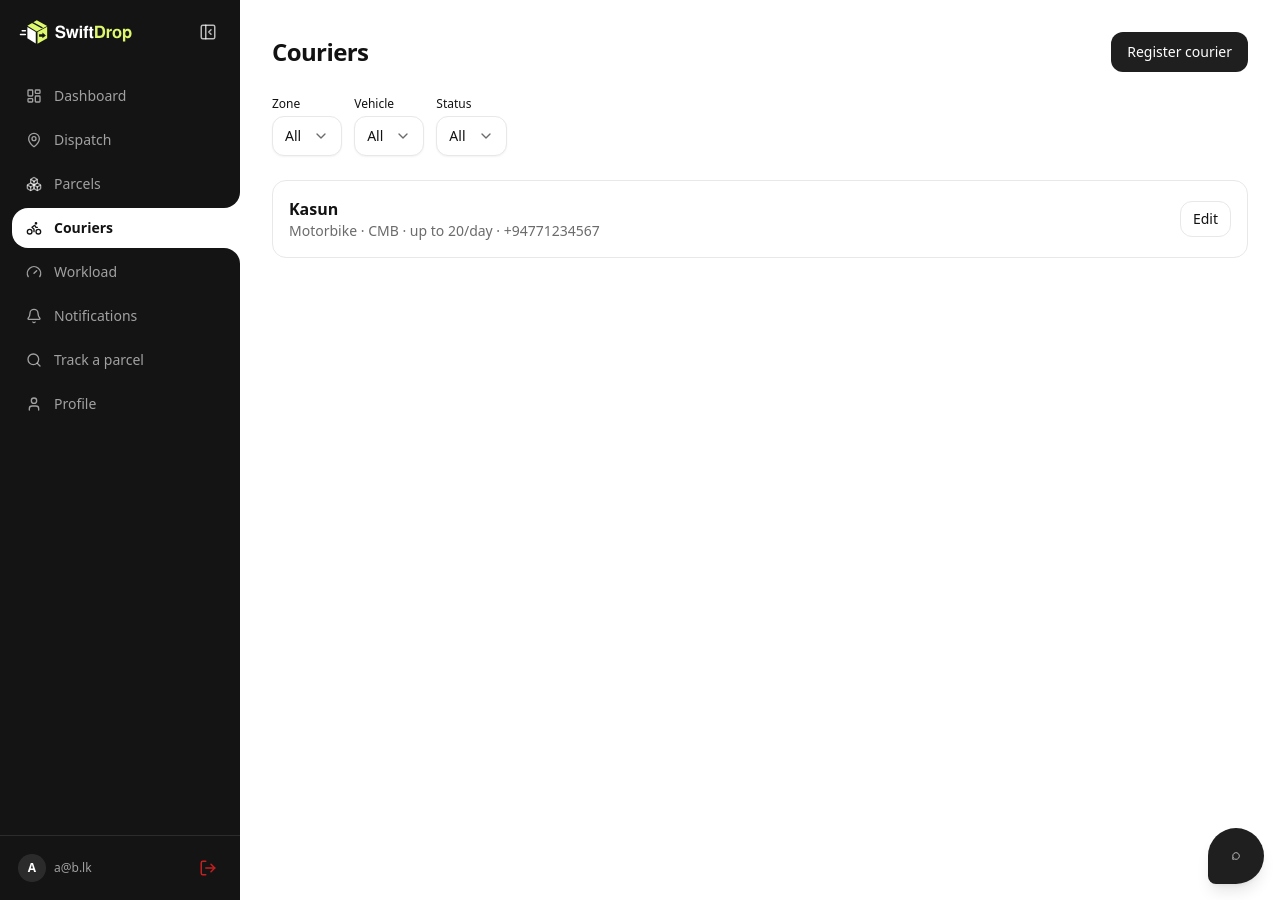
Test: couriers › validates the daily load
Click the button with aria-label "Edit Kasun" at [1205, 219], box x1=1180 y1=201 x2=1231 y2=237
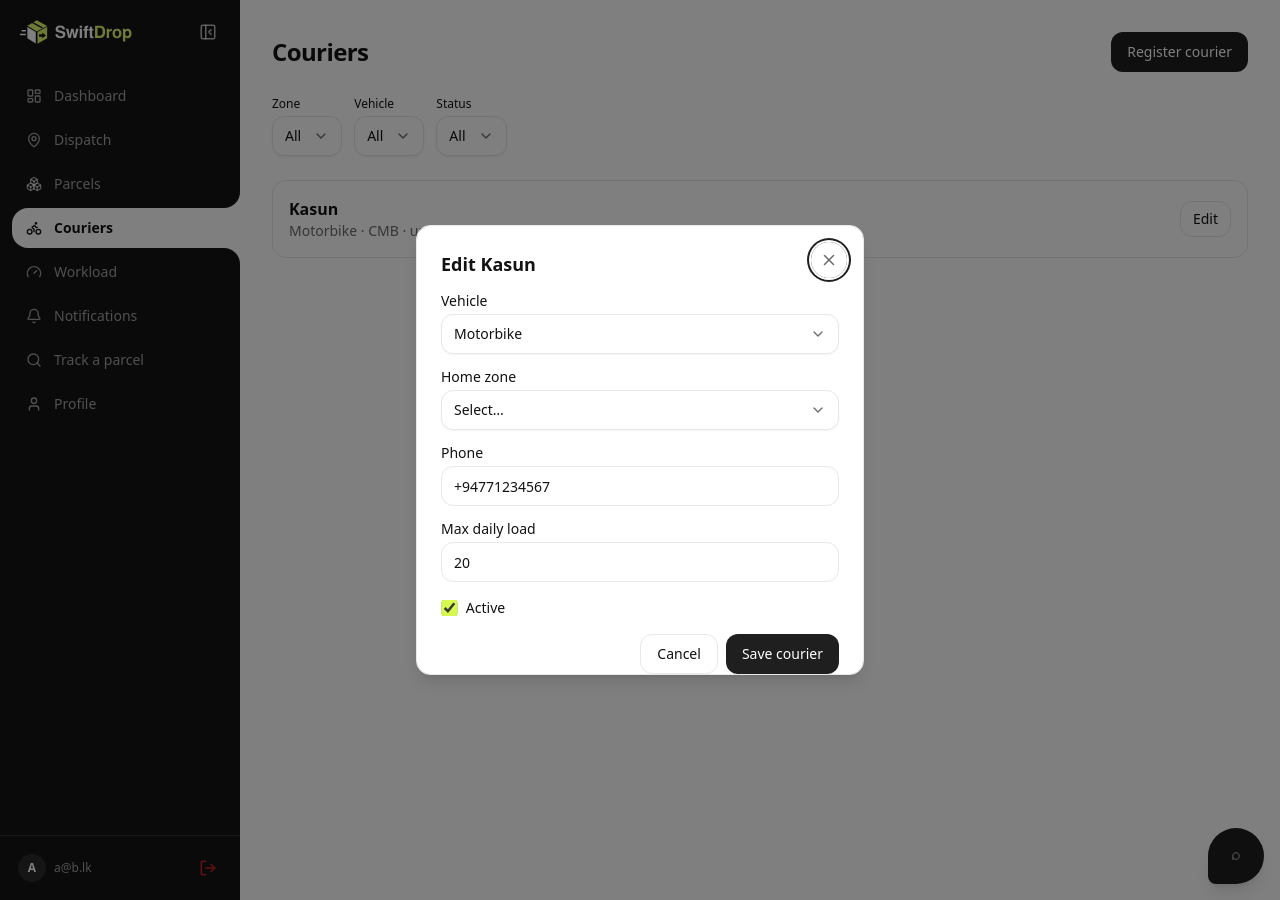
Replace the text in the field labelled "Max daily load" with "0" at [640, 562], box x1=441 y1=542 x2=839 y2=582
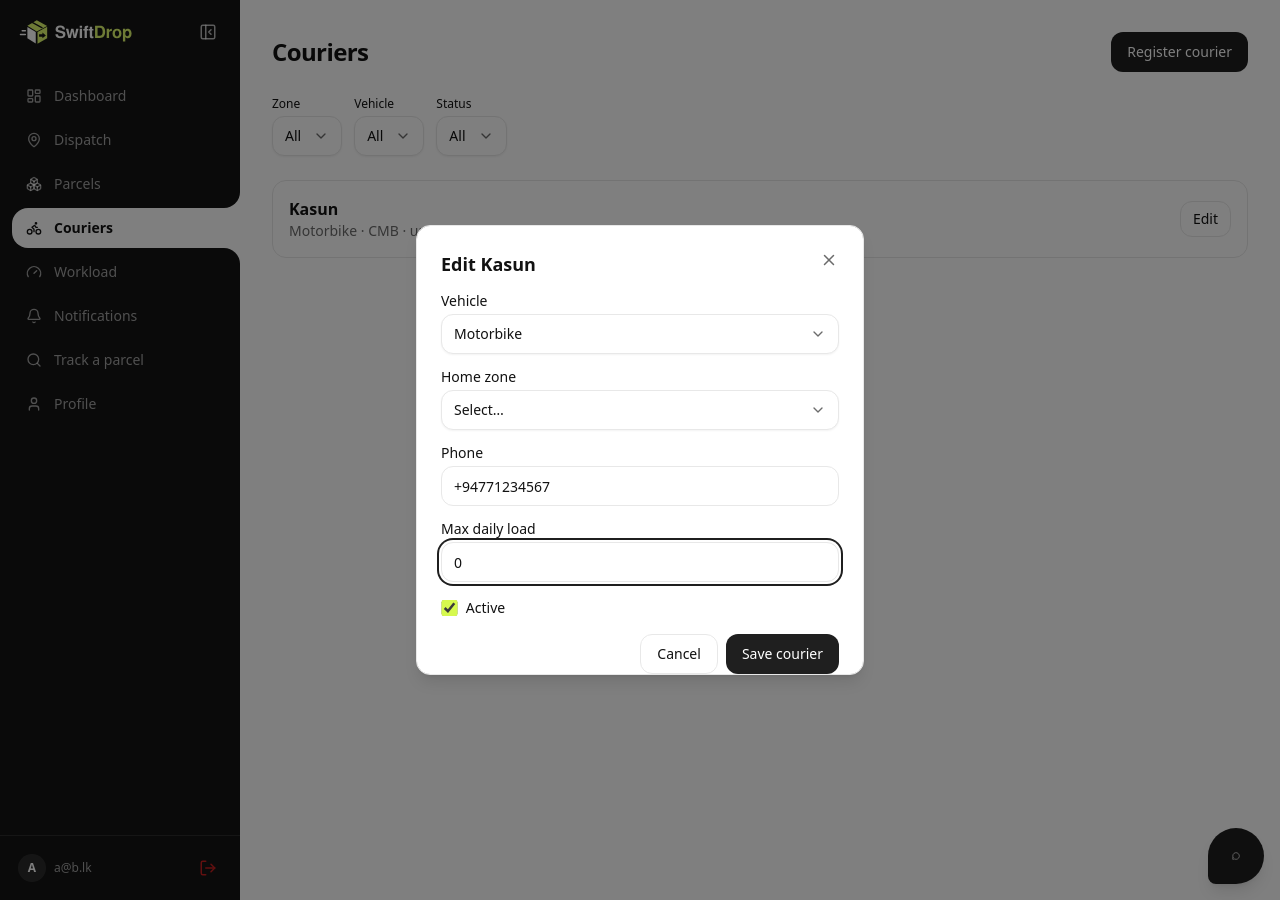
Click the button "Save courier" at [782, 654], box x1=726 y1=634 x2=839 y2=674
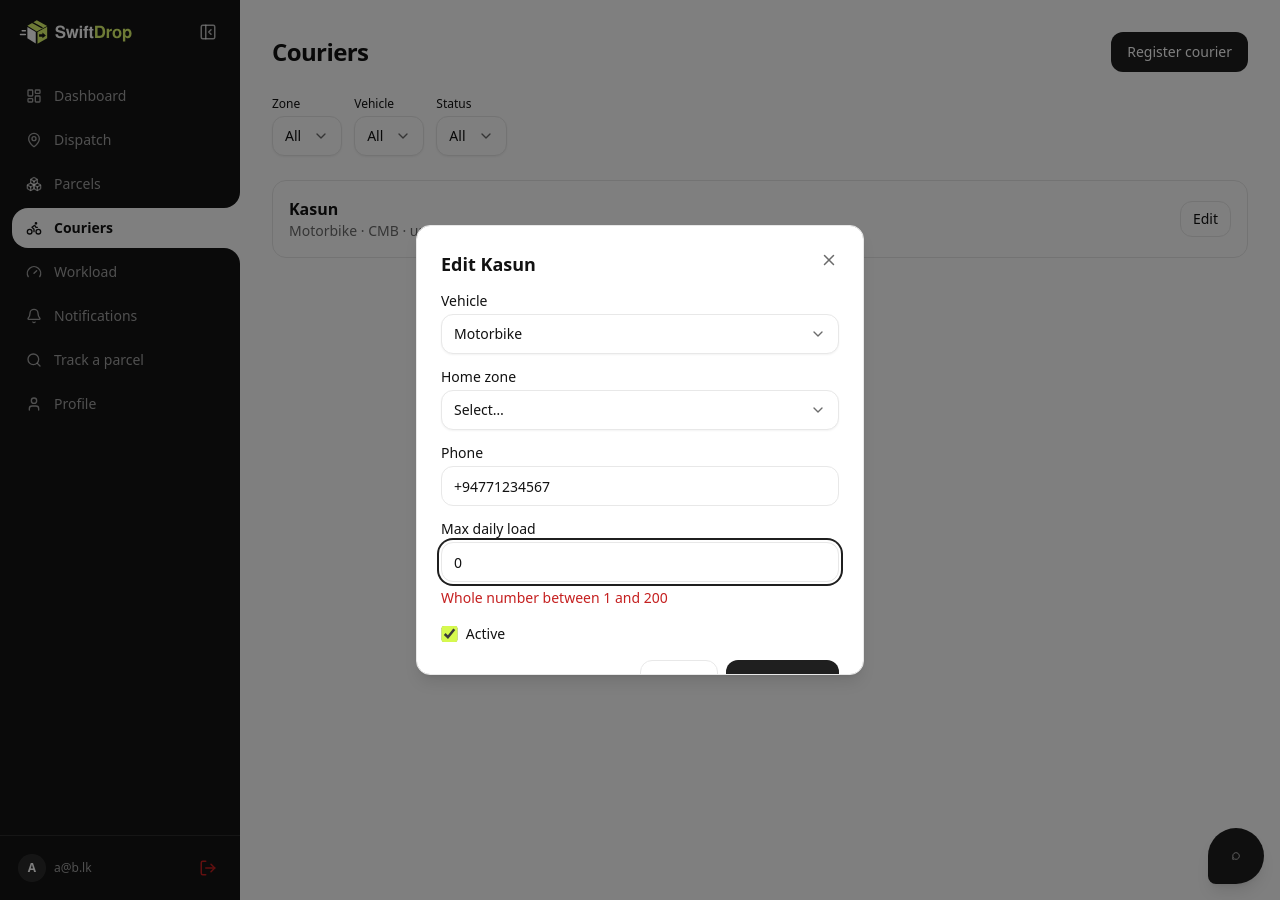
Result: the text "Whole number between 1 and 200" is shown at x1=441 y1=588 x2=668 y2=607
